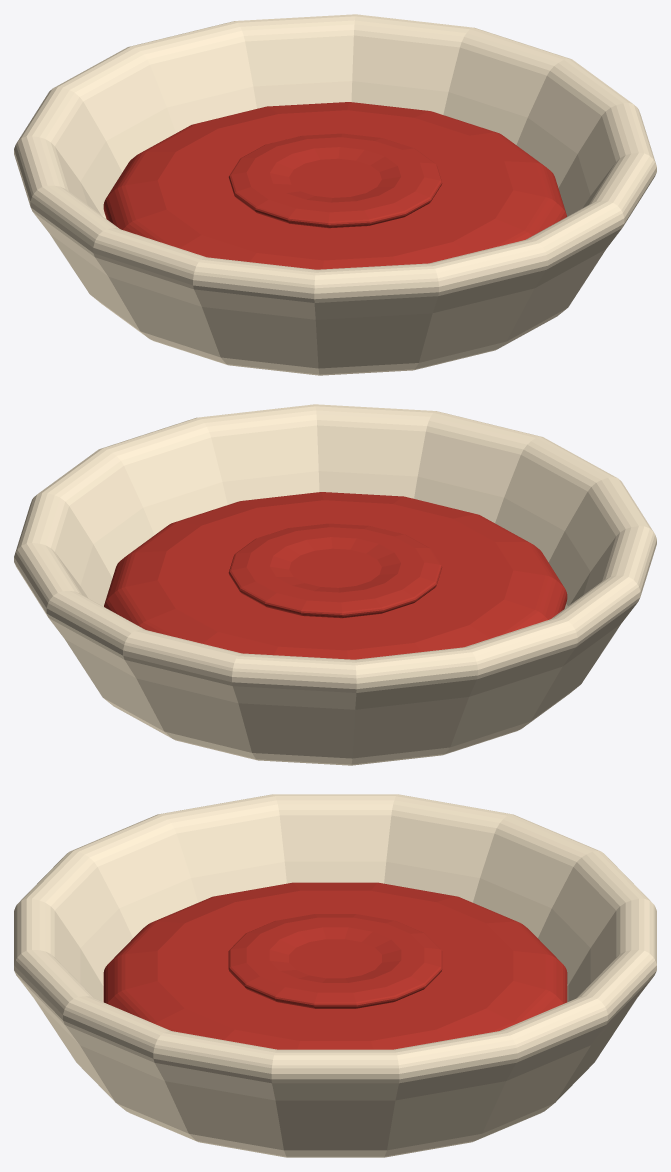
The model's file is A04_KetchupDish.fbx.
The picture shows the model from 3 angles, top to bottom: view 1: azimuth 30°, elevation 25°; view 2: azimuth 150°, elevation 25°; view 3: azimuth 270°, elevation 25°; orthographic projection.
Visible parts, largest first — view 1: Ketchup • vanilla ceramic dish, Ketchup • independent sauce insert, Ketchup • shallow embossed spiral core; view 2: Ketchup • vanilla ceramic dish, Ketchup • independent sauce insert, Ketchup • shallow embossed spiral core; view 3: Ketchup • vanilla ceramic dish, Ketchup • independent sauce insert, Ketchup • shallow embossed spiral core.
Part boxes in pixels (x1,y1,x2,y2): Ketchup • vanilla ceramic dish: (14, 14, 656, 375); Ketchup • independent sauce insert: (103, 102, 566, 269); Ketchup • shallow embossed spiral core: (228, 133, 442, 228); Ketchup • vanilla ceramic dish: (14, 404, 656, 765); Ketchup • independent sauce insert: (104, 492, 567, 659); Ketchup • shallow embossed spiral core: (228, 523, 442, 618); Ketchup • vanilla ceramic dish: (14, 794, 656, 1157); Ketchup • independent sauce insert: (103, 882, 567, 1049); Ketchup • shallow embossed spiral core: (228, 914, 442, 1008).
Bounding box in the file's own units: 0.1631 × 0.0376 × 0.1631.
